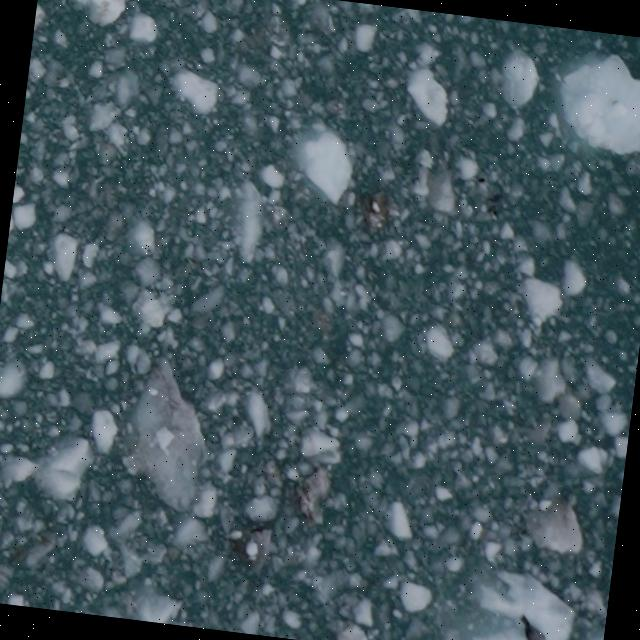seal: (514, 609, 555, 640)
